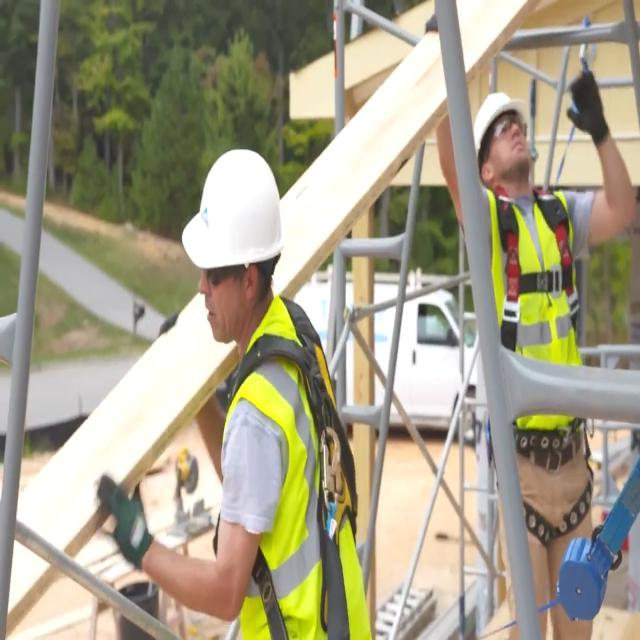helmet: (181, 147, 288, 269), (474, 92, 529, 156)
no_mask: (205, 292, 251, 340), (500, 138, 530, 174)
person: (92, 146, 375, 640), (424, 13, 638, 640)
vehicle: (296, 274, 482, 450)
vest: (224, 294, 380, 640), (488, 187, 582, 424)
